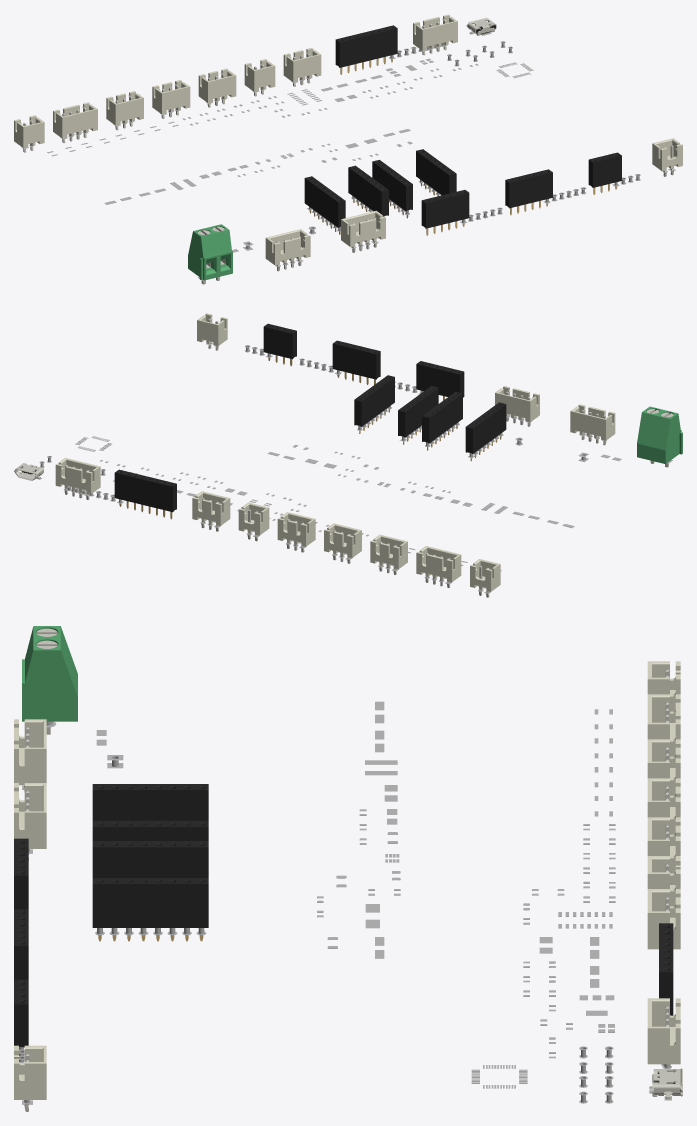
The model's file is all_jacks.glb.
3 renders of one model, top to bottom at view 1: azimuth 30°, elevation 25°; view 2: azimuth 150°, elevation 25°; view 3: azimuth 270°, elevation 25°, orthographic. The views are drawn at different scales.
Visible parts, largest first — view 1: =>[0:1:1:7] (×5), =>[0:1:1:9] (×4), =>[0:1:1:11] (×4), =>[0:1:1:18], =>[0:1:1:15] (×2), =>[0:1:1:13] (×3), =>[0:1:1:5], =>[0:1:1:17]; view 2: =>[0:1:1:7] (×5), =>[0:1:1:9] (×4), =>[0:1:1:11] (×4), =>[0:1:1:18], =>[0:1:1:15] (×2), =>[0:1:1:13] (×3), =>[0:1:1:5], =>[0:1:1:17]; view 3: =>[0:1:1:7] (×5), =>[0:1:1:9] (×4), =>[0:1:1:18], =>[0:1:1:11] (×4), =>[0:1:1:5], =>[0:1:1:13] (×3), =>[0:1:1:15] (×2), =>[0:1:1:17], =>[0:1:1:3].
Part boxes in pixels (x1,y1,x2,y2): =>[0:1:1:7] (×5): (304,25,456,234); =>[0:1:1:9] (×4): (53,14,457,271); =>[0:1:1:11] (×4): (106,47,321,130); =>[0:1:1:18]: (21,32,675,280); =>[0:1:1:15] (×2): (421,169,552,235); =>[0:1:1:13] (×3): (14,59,682,176); =>[0:1:1:5]: (188,224,232,284); =>[0:1:1:17]: (588,152,621,194); =>[0:1:1:7] (×5): (114,375,506,519); =>[0:1:1:9] (×4): (55,386,615,587); =>[0:1:1:11] (×4): (192,491,407,574); =>[0:1:1:18]: (36,342,672,593); =>[0:1:1:15] (×2): (332,340,464,400); =>[0:1:1:13] (×3): (197,313,500,597); =>[0:1:1:5]: (637,406,682,467); =>[0:1:1:17]: (263,323,296,366); =>[0:1:1:7] (×5): (92,784,673,1015); =>[0:1:1:9] (×4): (14,694,680,1068); =>[0:1:1:18]: (19,701,671,1104); =>[0:1:1:11] (×4): (647,739,680,949); =>[0:1:1:5]: (22,626,77,734); =>[0:1:1:13] (×3): (14,661,680,1111); =>[0:1:1:15] (×2): (14,838,28,979); =>[0:1:1:17]: (14,979,28,1047); =>[0:1:1:3]: (652,1068,682,1098).
Bounding box in the file's own units: 0.1675 × 0.0173 × 0.1172.
